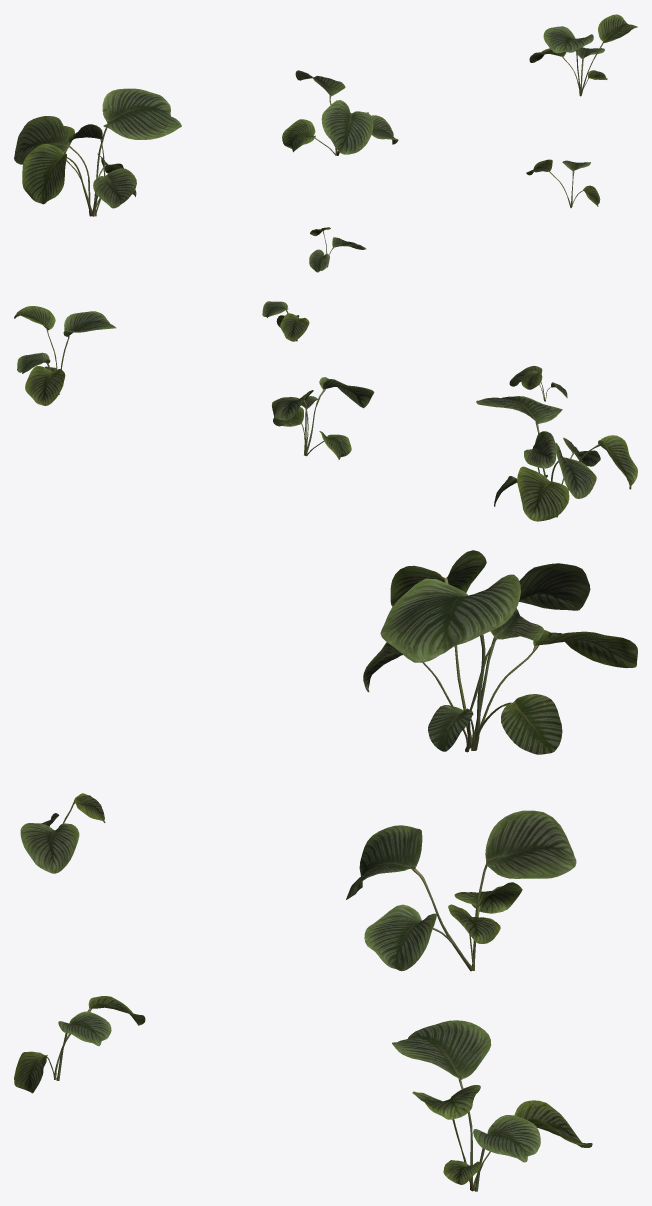
File: calathea.glb
The picture shows the model from 3 angles, top to bottom: view 1: azimuth 30°, elevation 25°; view 2: azimuth 150°, elevation 25°; view 3: azimuth 270°, elevation 25°; orthographic projection. The views are drawn at different scales.
Visible parts, largest first — view 1: calathea_orbifolia_01_a; view 2: calathea_orbifolia_01_a; view 3: calathea_orbifolia_01_a.
Part boxes in pixels (x1,y1,x2,y2): calathea_orbifolia_01_a: (14,14,637,272); calathea_orbifolia_01_a: (14,301,637,521); calathea_orbifolia_01_a: (14,550,637,1191).
Size of the model in its own units: 2.49 by 0.4243 by 1.19.
Materials: 1 (1 with a texture image).
